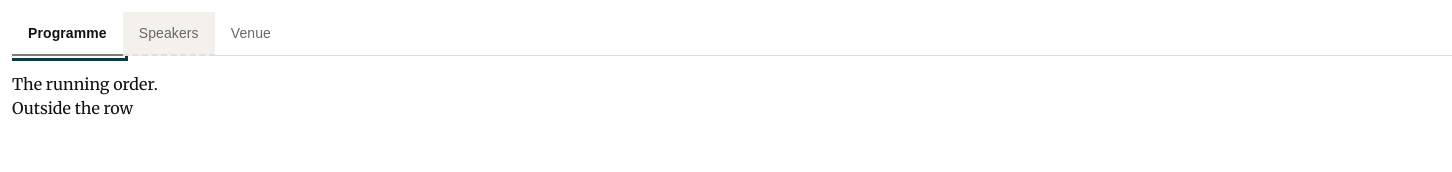
Test: Tabs › shows the reason for an unavailable tab under the row while it has focus or the pointer
The image size is (1452, 172).
Press ArrowRight in the element showing "Programme Speakers Venue", box [12, 12, 1451, 56]
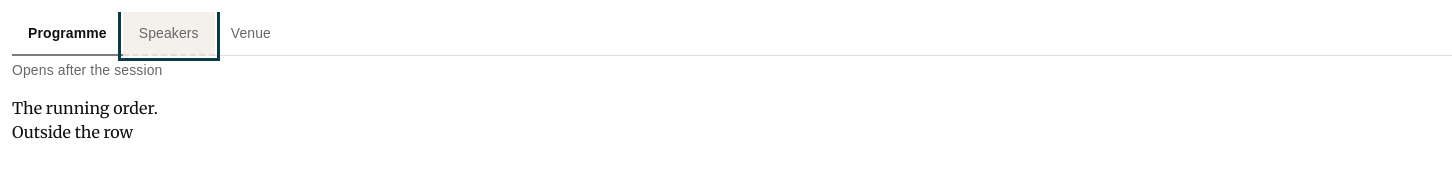
Check: the text with class "tab-list__reason" reads "Opens after the session", box [12, 62, 162, 78]
Leave the tab "Speakers", box [123, 12, 215, 56]
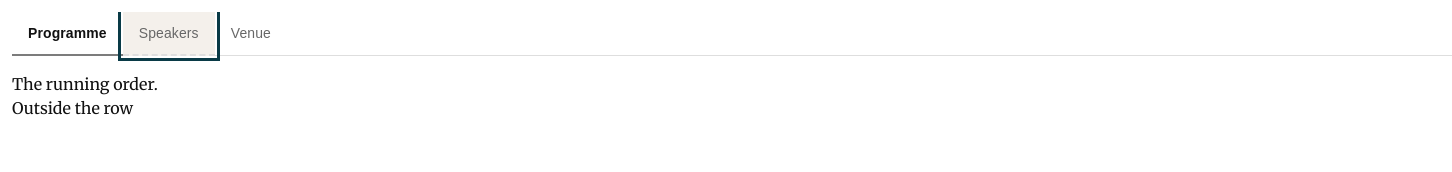
Check: the text with class "tab-list__reason" is gone
Hover over the tab "Speakers".
mouse_move(169, 34)  # box [123, 12, 215, 56]
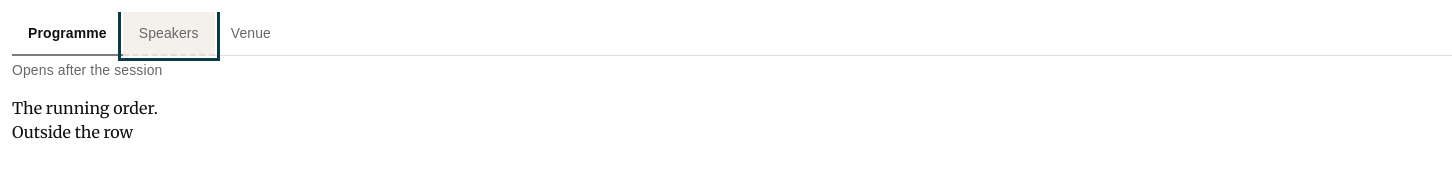
Check: the text with class "tab-list__reason" reads "Opens after the session", box [12, 62, 162, 78]
Hover over the tab "Venue".
mouse_move(251, 34)  # box [215, 12, 287, 56]
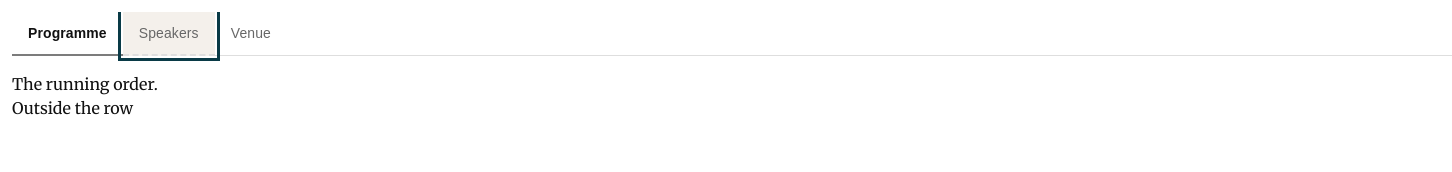
Check: the text with class "tab-list__reason" is gone
Hover over the tab "Speakers".
mouse_move(169, 34)  # box [123, 12, 215, 56]
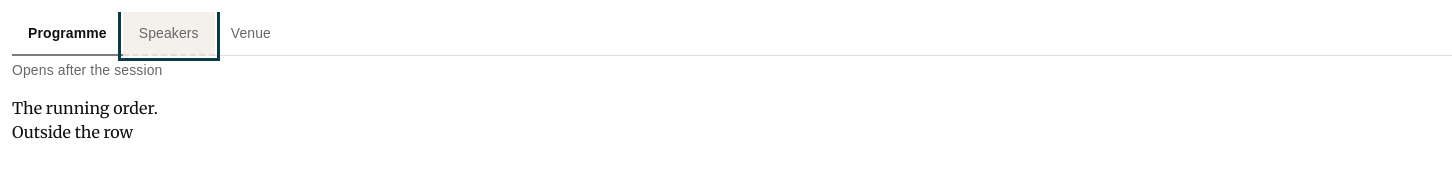
Move the pointer off the element showing "Programme Speakers Venue", box [12, 12, 1451, 56]
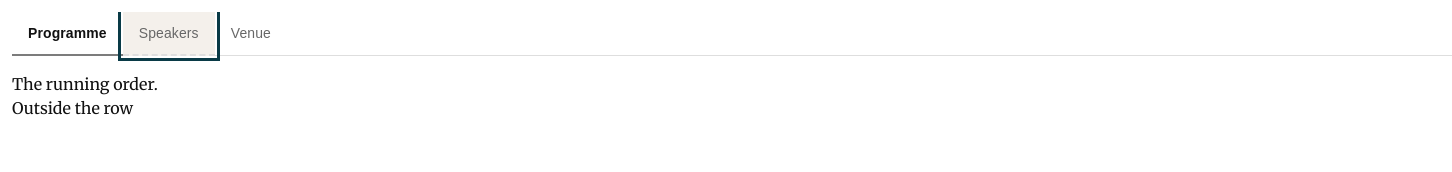
Check: the text with class "tab-list__reason" is gone
